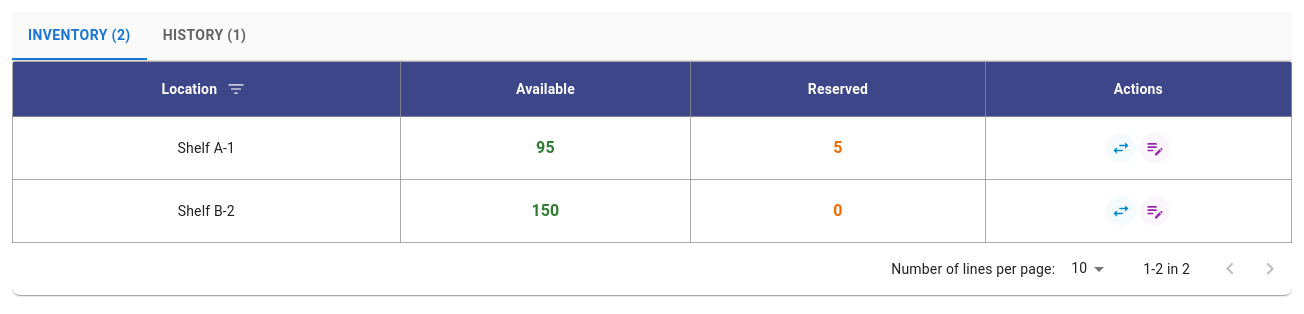
Test: BatchTabsSection - Comprehensive Tests › Movement Type Chips › renders unknown type as-is
Click the tab "History (1)" at {"x": 205, "y": 36}, box [147,12,262,60]
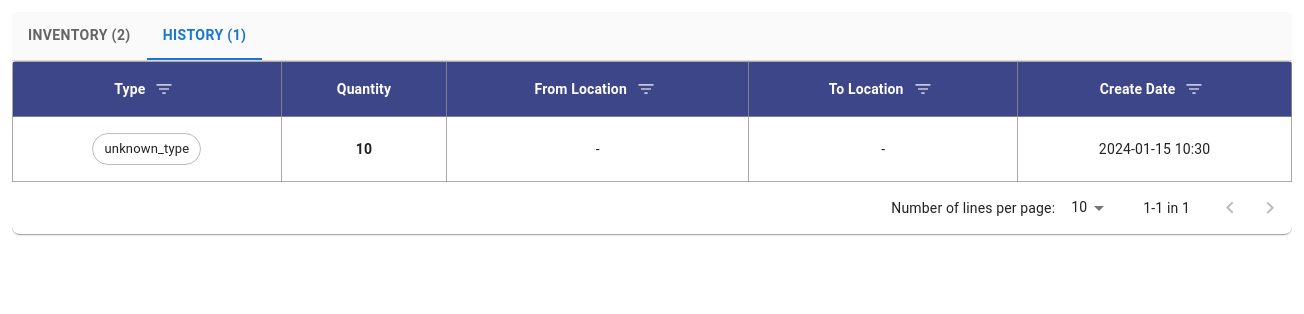
Expected: the text "unknown_type" is shown, [104,141,189,156]
